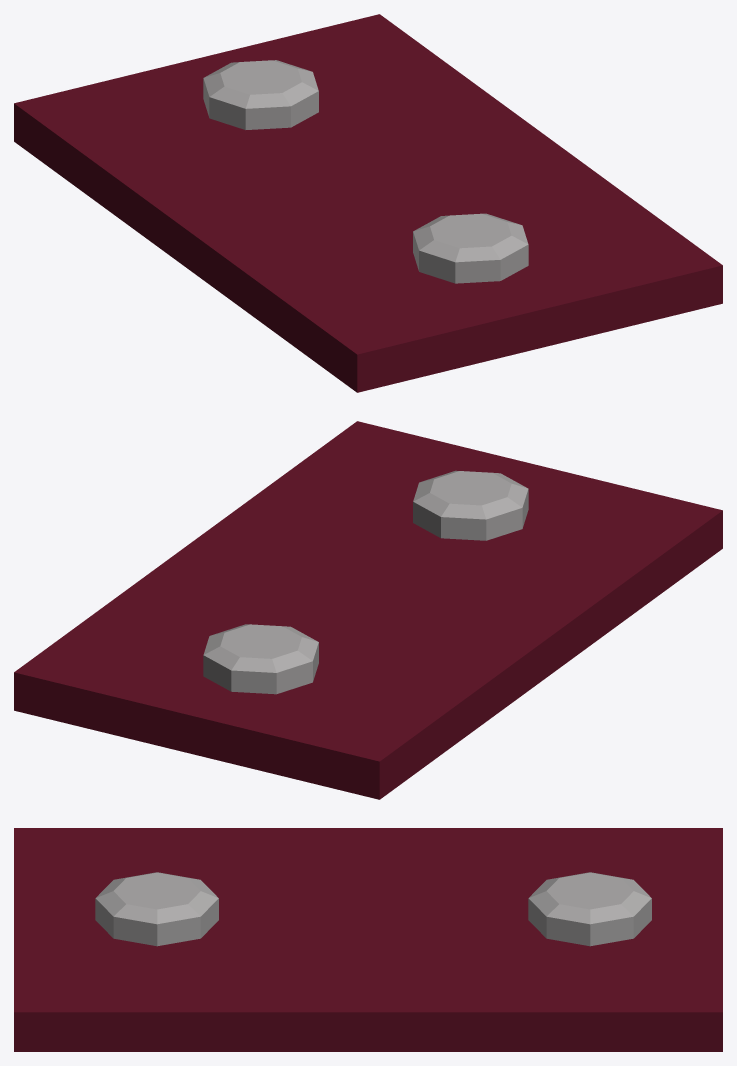
File: Xylophone_08.fbx
3 views of the same model, one above another, from view 1: azimuth 30°, elevation 25°; view 2: azimuth 150°, elevation 25°; view 3: azimuth 270°, elevation 25° (orthographic). The views are drawn at different scales.
Visible parts, largest first — view 1: Xylophone_08; view 2: Xylophone_08; view 3: Xylophone_08.
Boxes of the visible parts, x1,y1,x2,y2 form: Xylophone_08: (14,14,722,392); Xylophone_08: (14,421,722,799); Xylophone_08: (14,828,722,1051).
Bounding box in the file's own units: 100 × 17.38 × 163.
